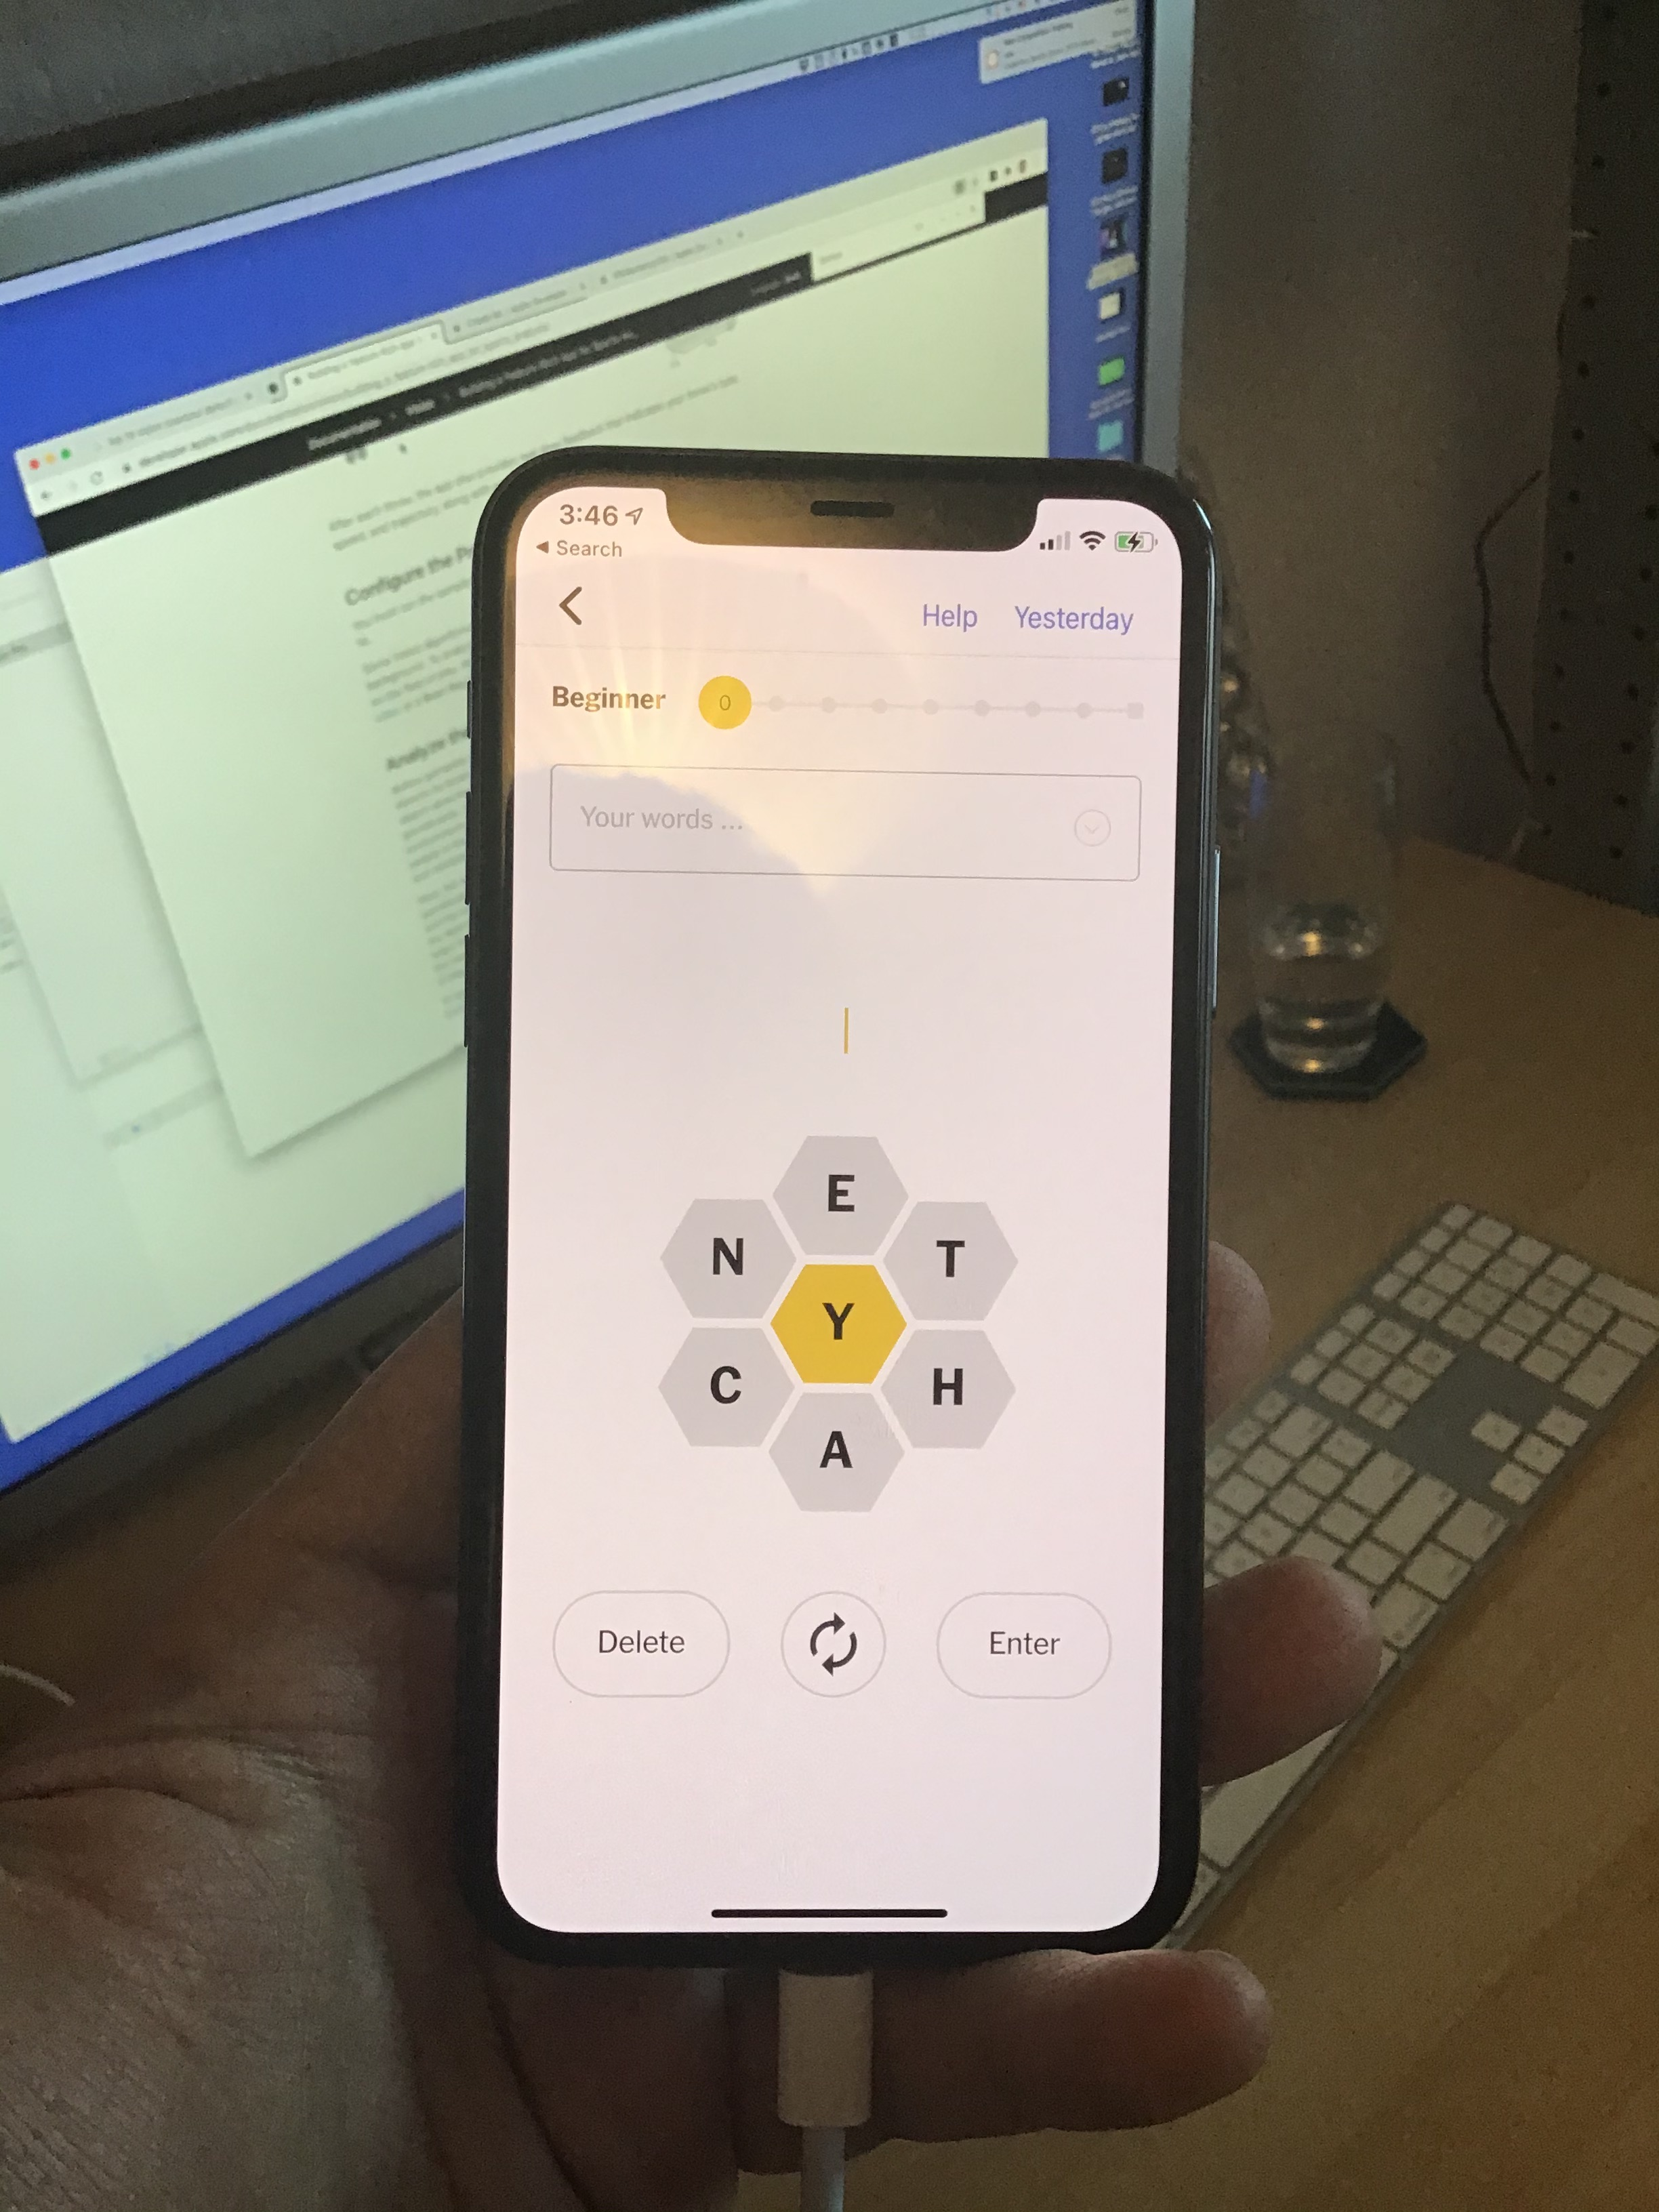Board: (601, 1096, 1058, 1541)
